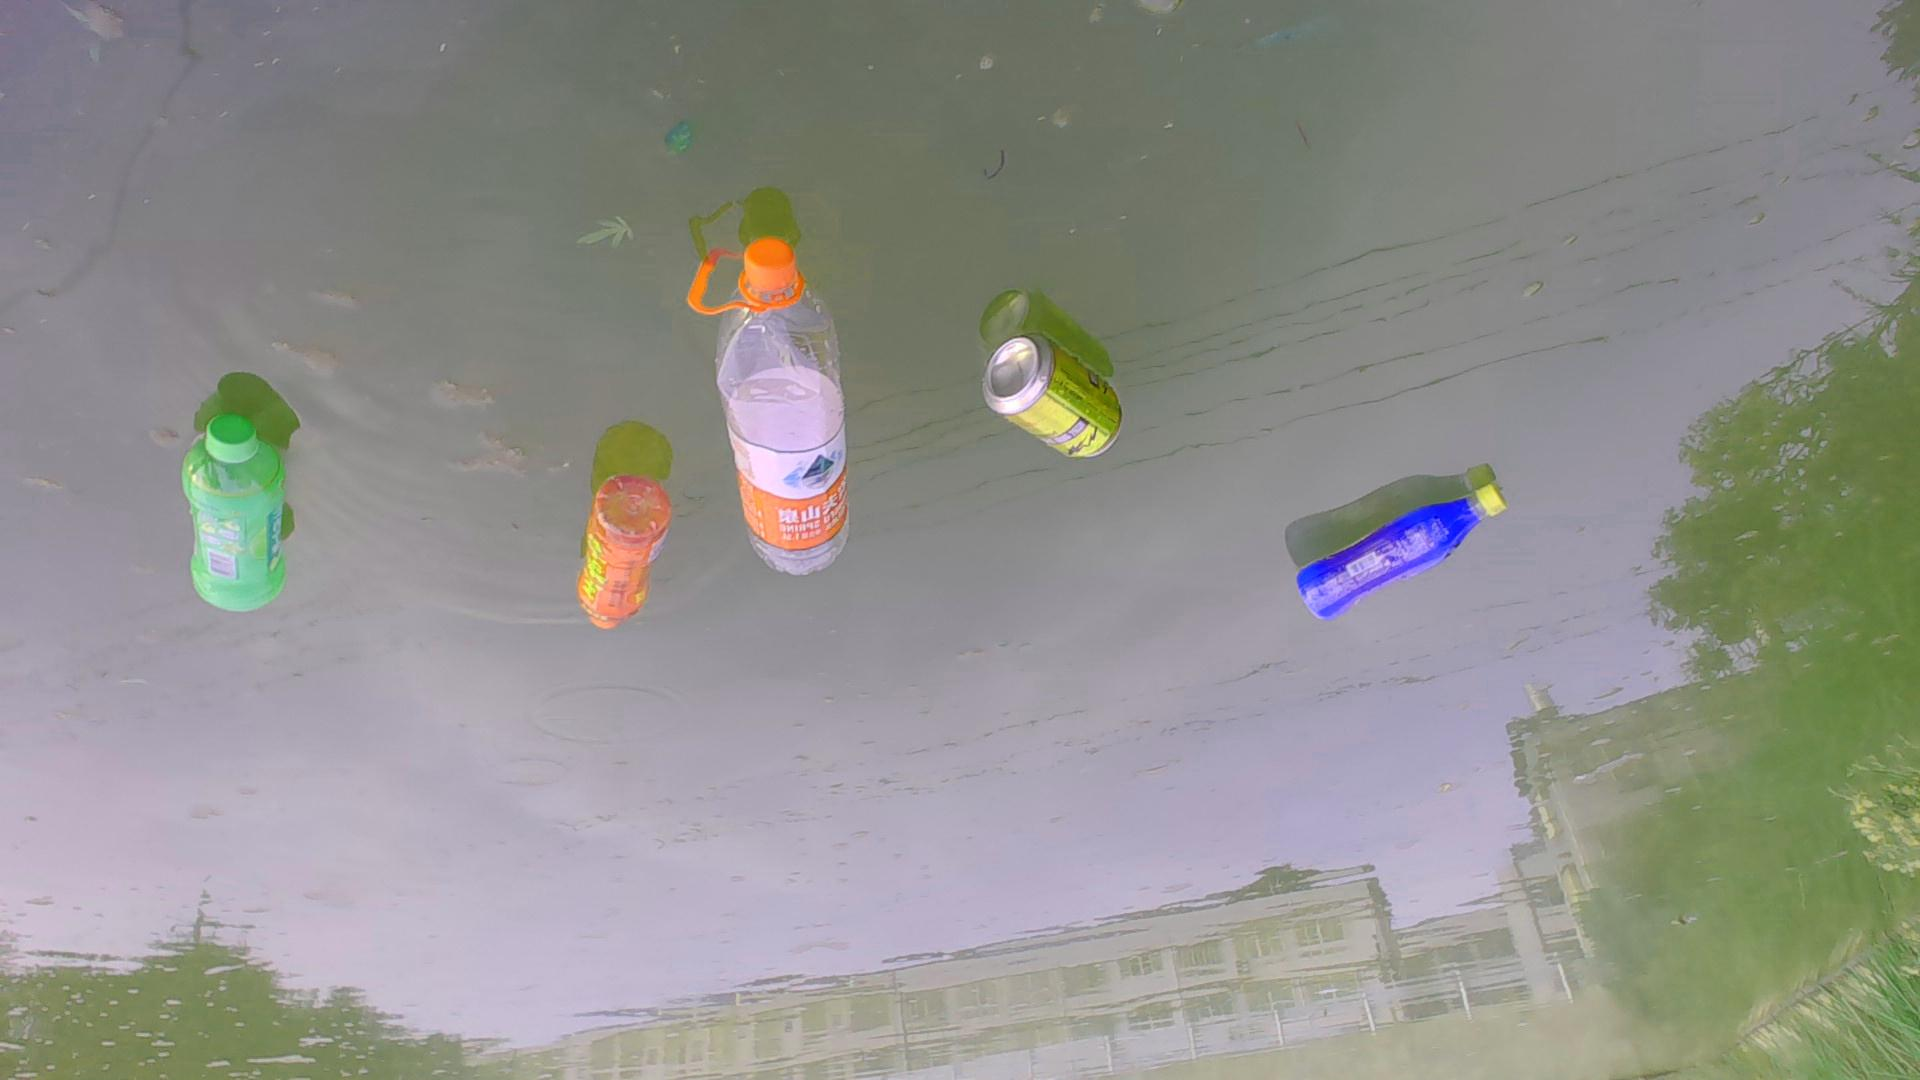Metal: (967, 331, 1129, 473)
Plastic: (684, 233, 853, 593), (1294, 475, 1516, 628), (181, 404, 289, 618), (570, 469, 678, 641)
